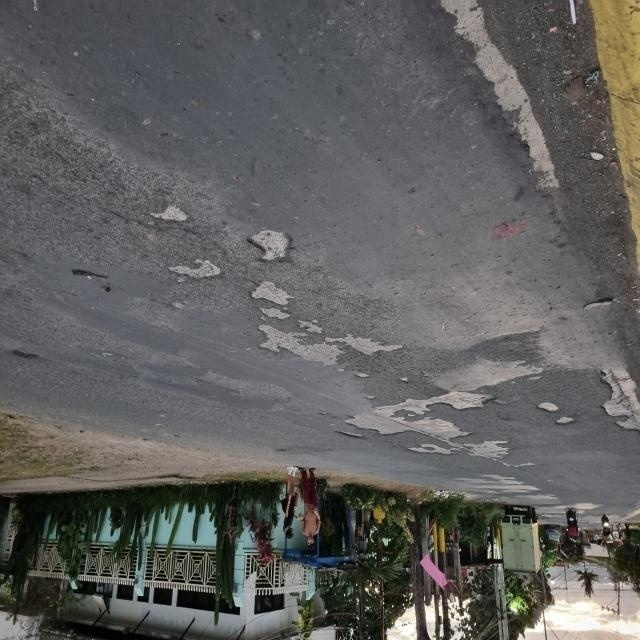pothole: (342, 384, 507, 454), (245, 312, 419, 372), (368, 370, 502, 420), (243, 200, 308, 278), (322, 325, 410, 364), (152, 177, 204, 234), (237, 269, 309, 306), (170, 256, 223, 296), (527, 384, 559, 417), (551, 399, 576, 439), (344, 364, 374, 391), (398, 370, 416, 397)
